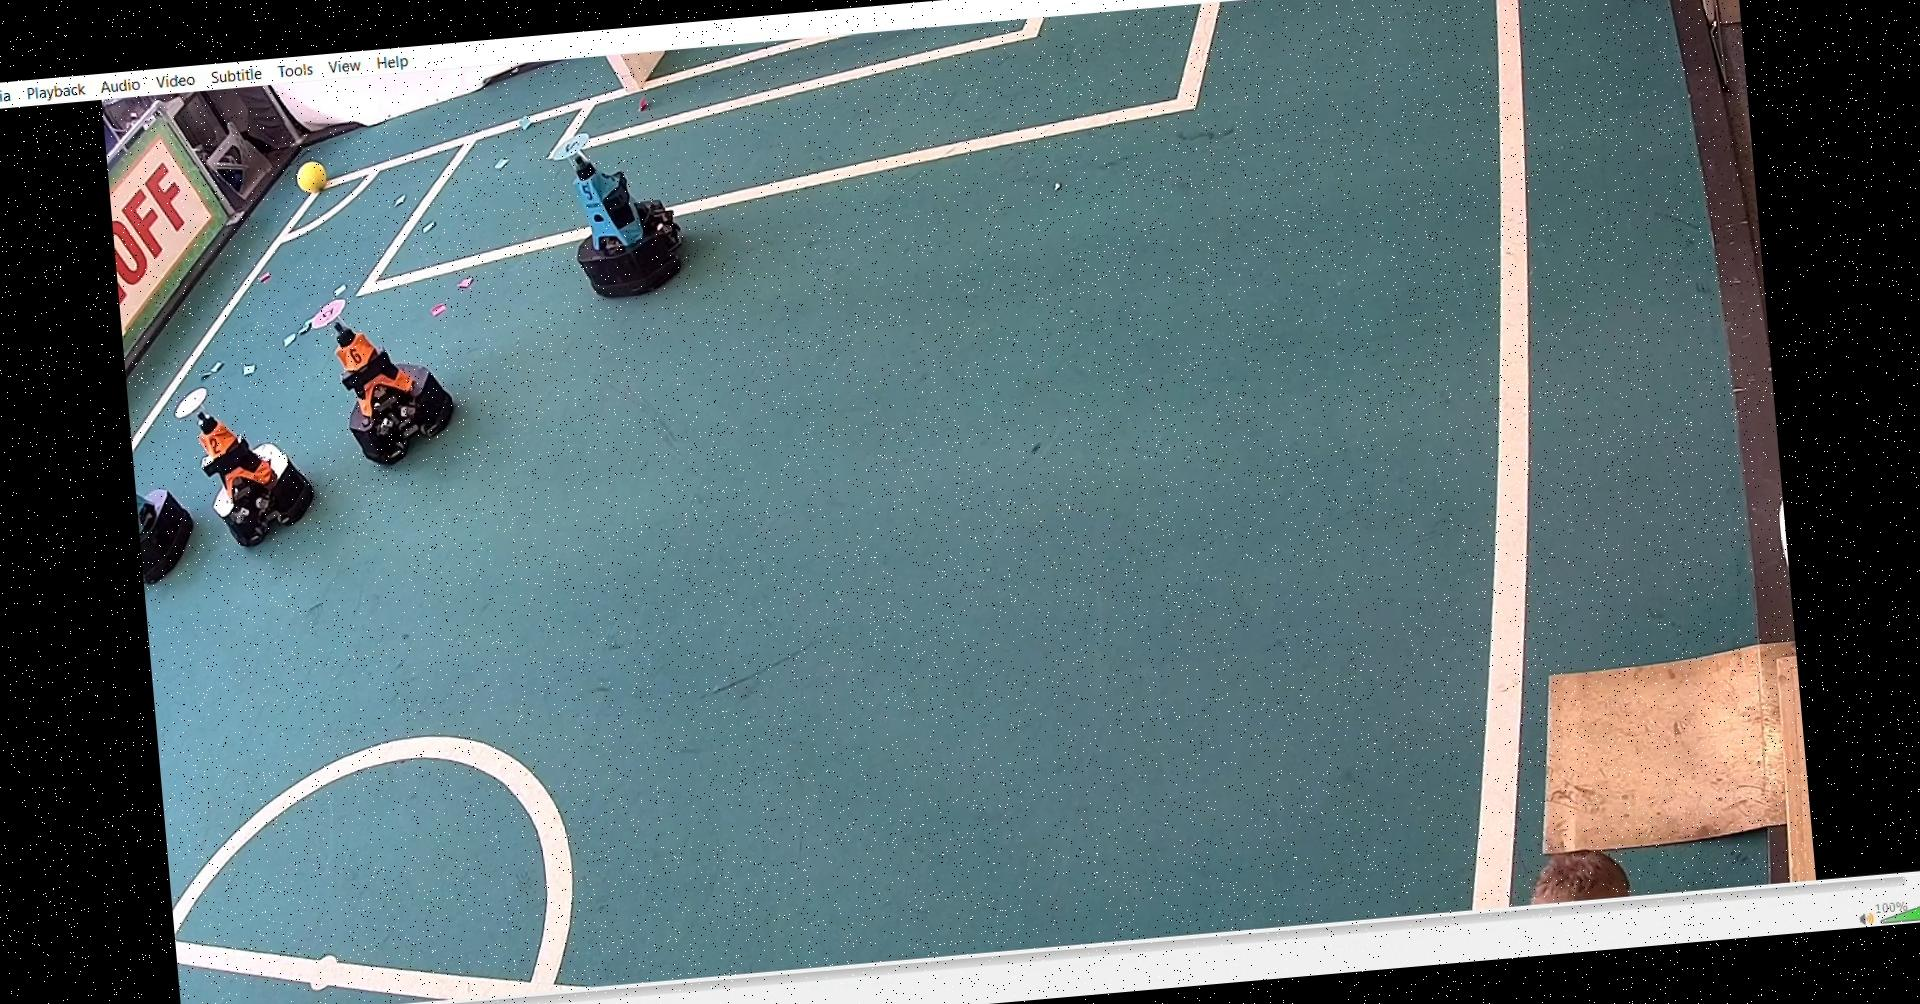Ball: (301, 157, 339, 192)
Team_Blue: (546, 112, 701, 306)
Team_Red: (303, 278, 463, 470), (169, 372, 323, 555)
